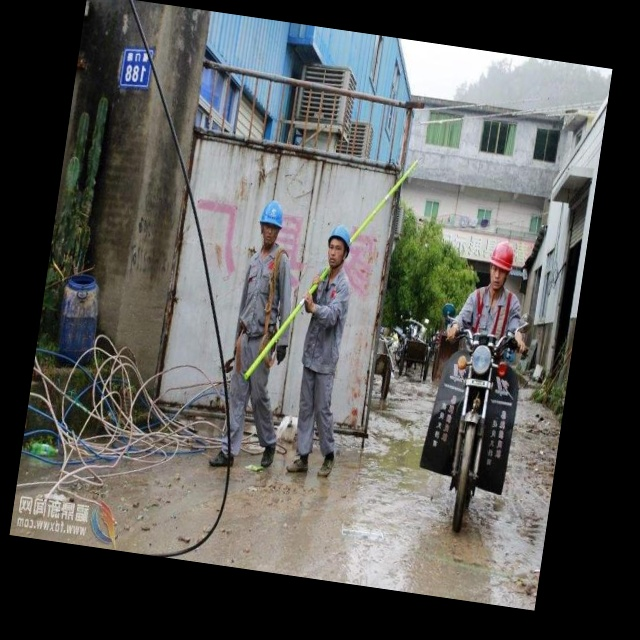Sin_Chaleco: (235, 244, 293, 339), (302, 267, 353, 371)
